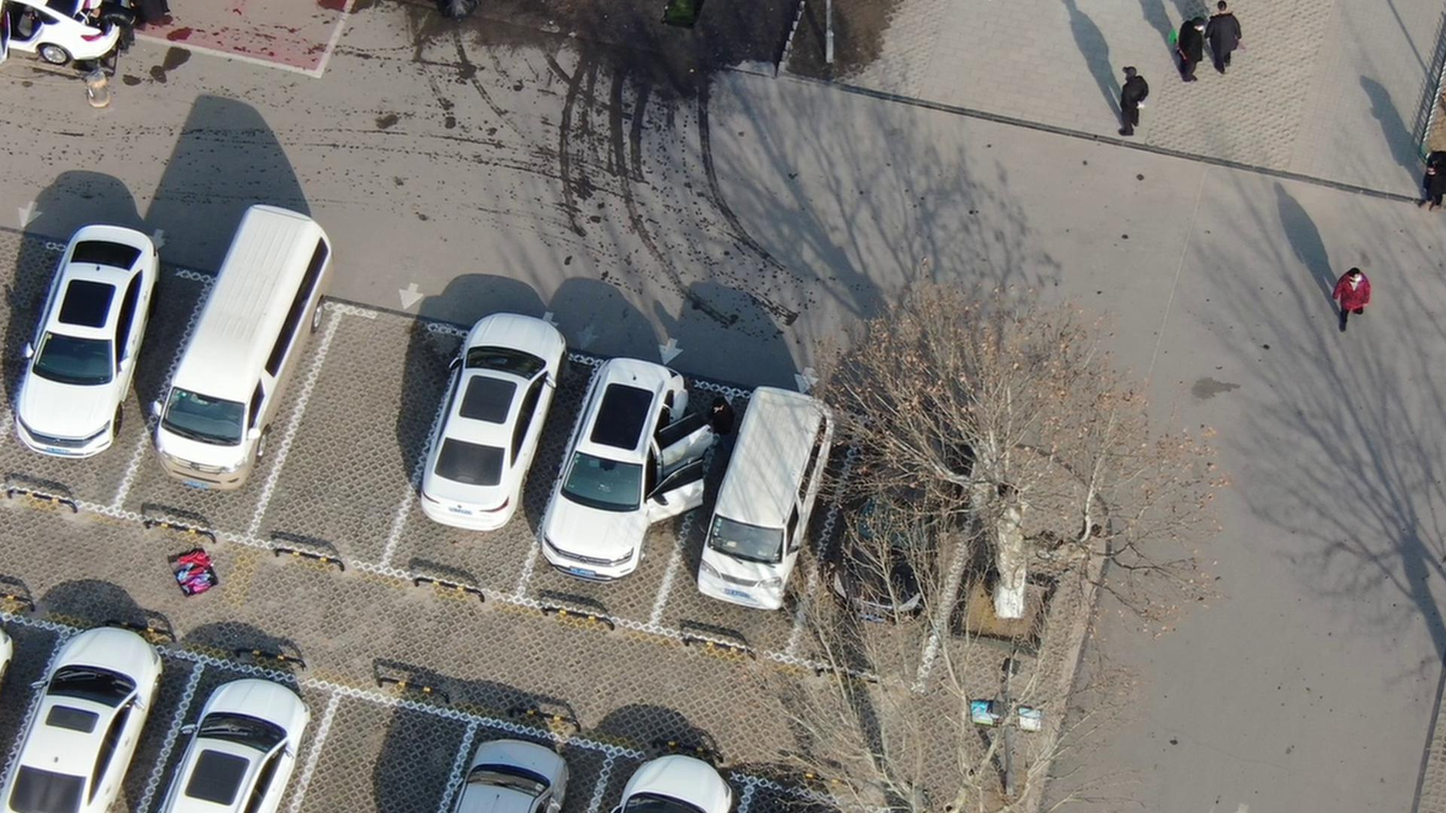human: (1107, 53, 1152, 147), (1196, 1, 1248, 78), (1323, 259, 1367, 337), (1407, 147, 1446, 228), (1168, 17, 1199, 84), (707, 386, 734, 451)
